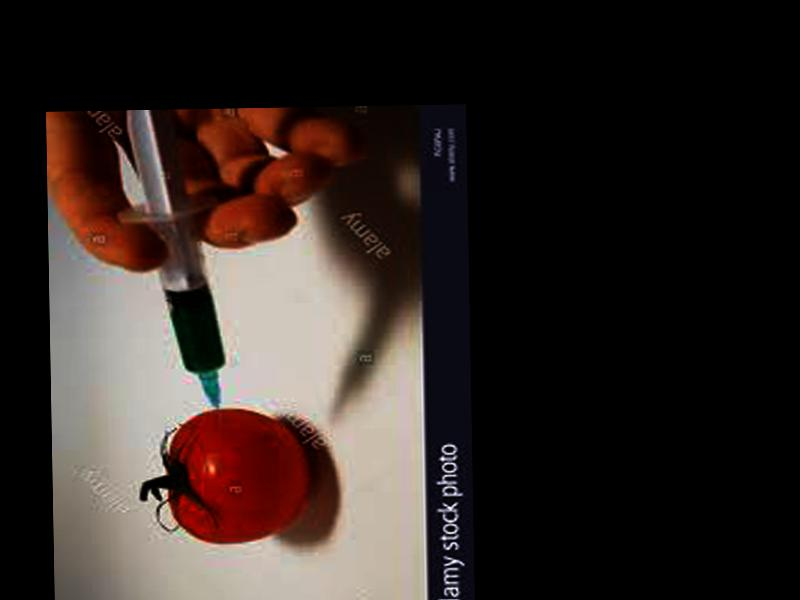Tomato: (167, 407, 311, 542)
